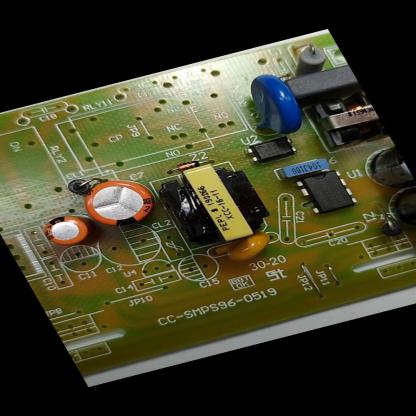Cap1: (70, 168, 168, 235)
Cap2: (35, 208, 106, 254)
Cap3: (352, 140, 416, 197)
Cap4: (370, 181, 415, 241)
MOSFET: (284, 160, 366, 220)
Mov: (225, 68, 320, 148)
Resistor: (282, 42, 336, 77)
Transformer: (138, 153, 284, 260), (301, 90, 391, 156)
